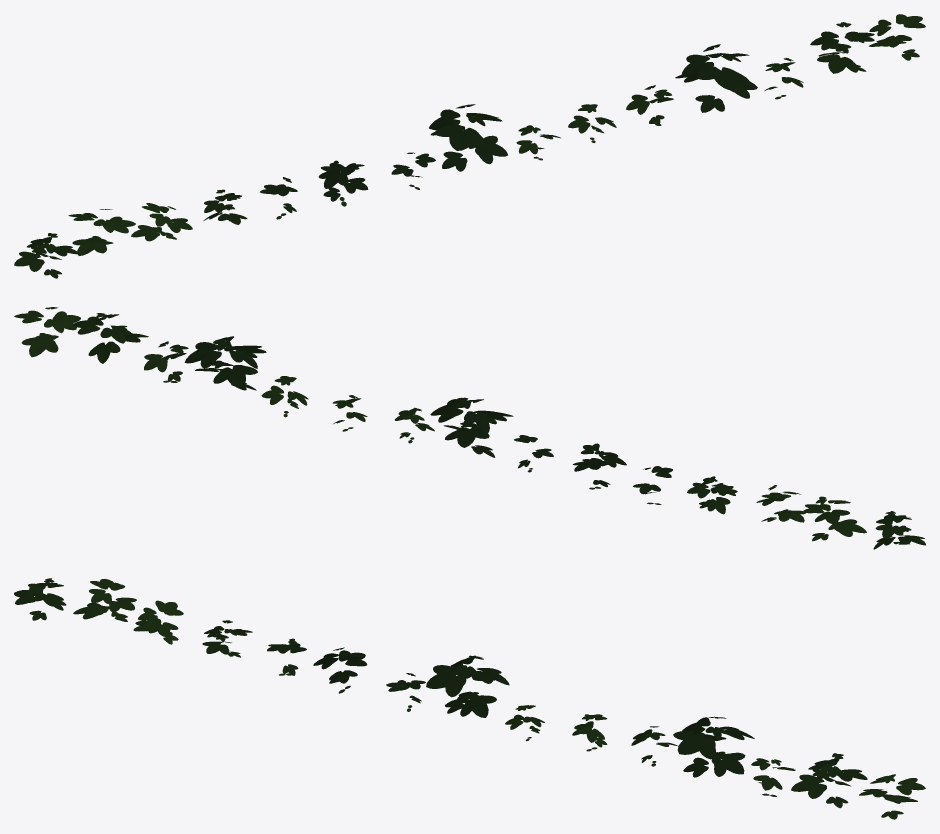
File: ROW_01_SEG2_foliage.dae
3 renders of one model, top to bottom at view 1: azimuth 30°, elevation 25°; view 2: azimuth 150°, elevation 25°; view 3: azimuth 330°, elevation 25°, orthographic.
Visible parts, largest first — view 1: ROW_01_SEG2_foliage; view 2: ROW_01_SEG2_foliage; view 3: ROW_01_SEG2_foliage.
Part boxes in pixels (x1,y1,x2,y2): ROW_01_SEG2_foliage: [14, 14, 925, 278]; ROW_01_SEG2_foliage: [14, 307, 925, 549]; ROW_01_SEG2_foliage: [14, 578, 925, 819].
Bounding box in the file's own units: 4.53 × 0.3807 × 0.3007.
